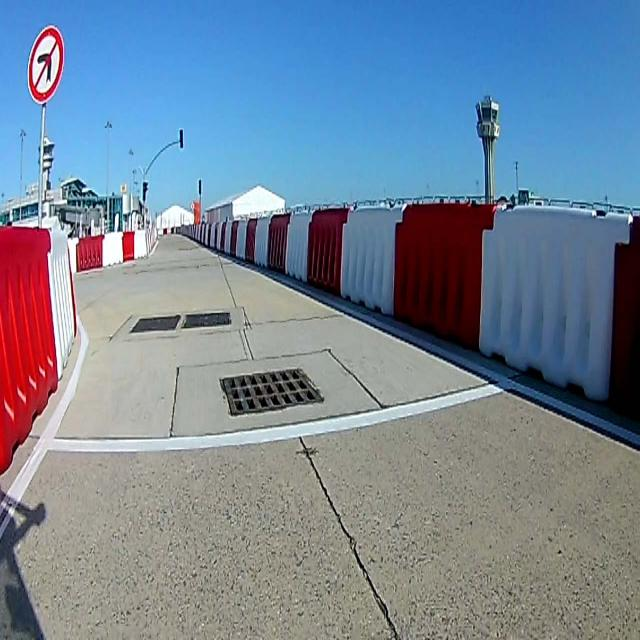soladonulmez: (26, 26, 64, 100)
